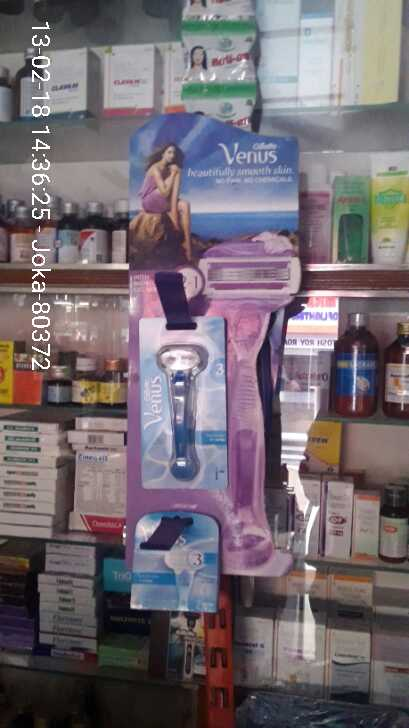venus: (136, 312, 232, 497), (127, 507, 225, 614)
